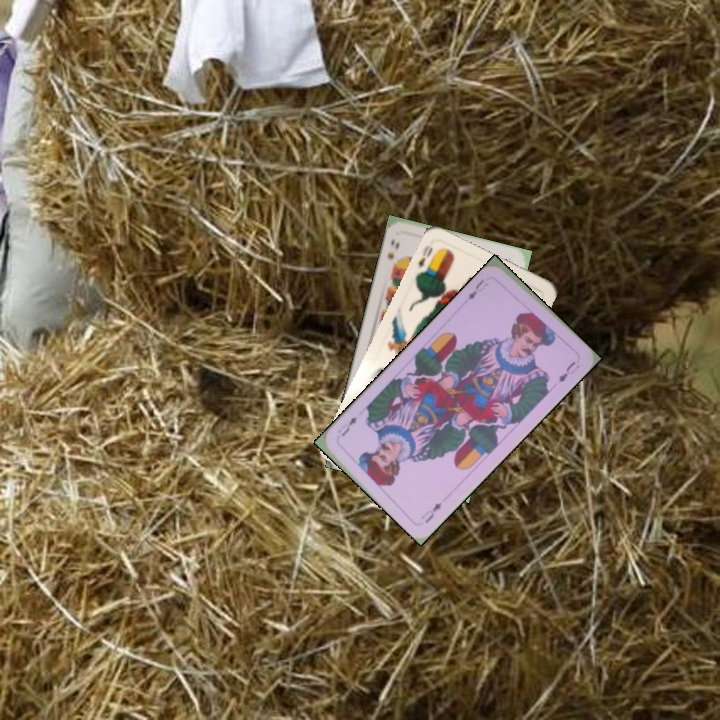EO: (413, 241, 441, 277)
EU: (417, 498, 445, 526), (464, 275, 491, 303)
S9: (383, 234, 402, 264)
